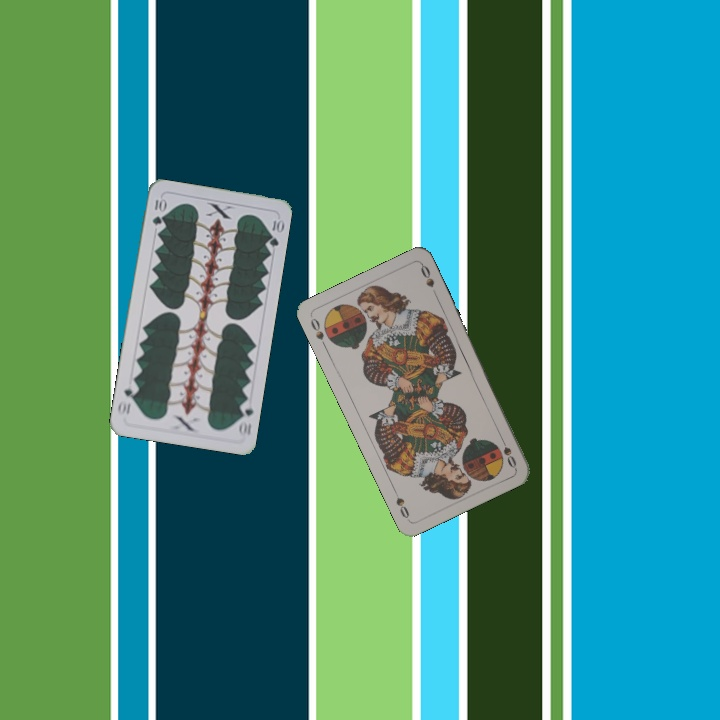G10: (235, 398, 256, 439), (148, 194, 167, 228)
SO: (306, 314, 330, 352), (496, 432, 519, 471)
